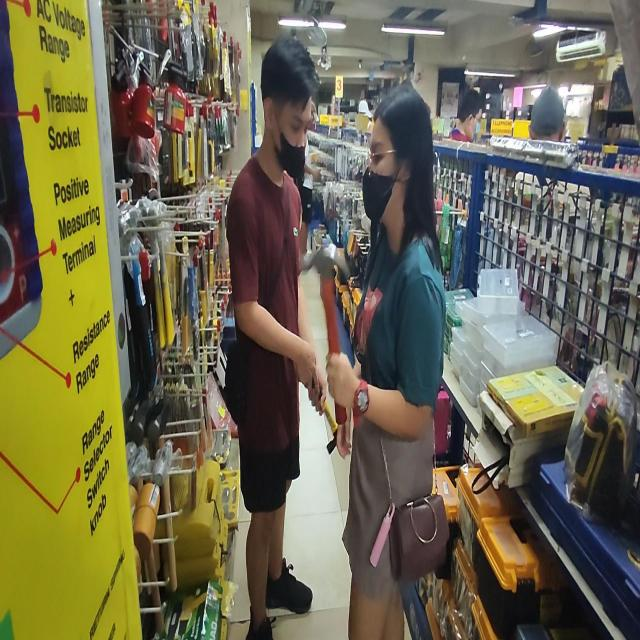hammer: (299, 243, 350, 426), (306, 379, 340, 456)
